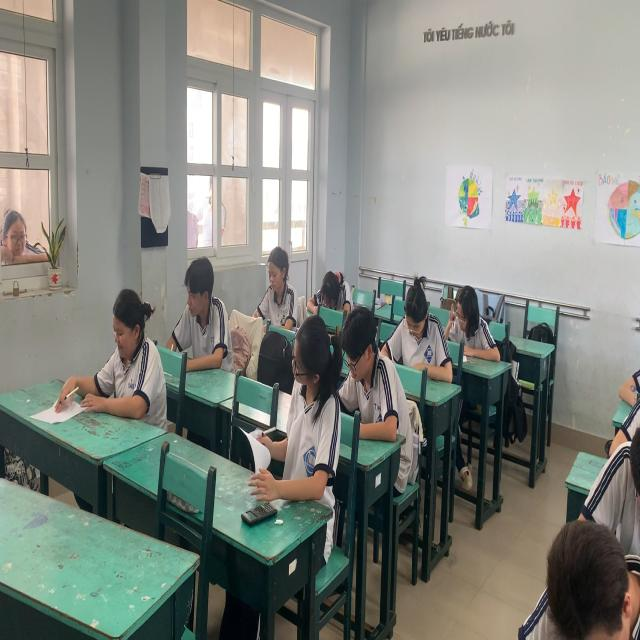cheating: (279, 311, 338, 507)
not_cheating: (523, 497, 640, 640), (93, 280, 156, 424), (338, 297, 394, 437), (172, 248, 230, 379), (394, 278, 442, 378), (248, 234, 294, 328), (450, 270, 488, 364), (312, 262, 354, 317)
